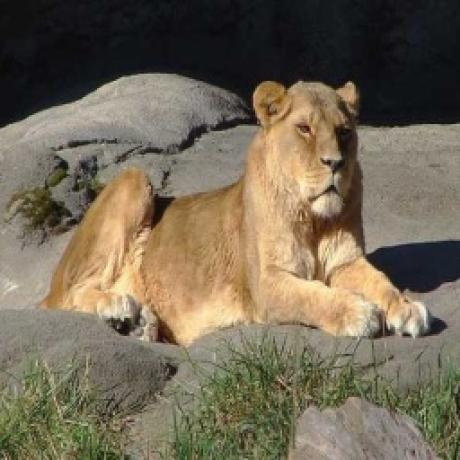Lion: (47, 73, 443, 350)
